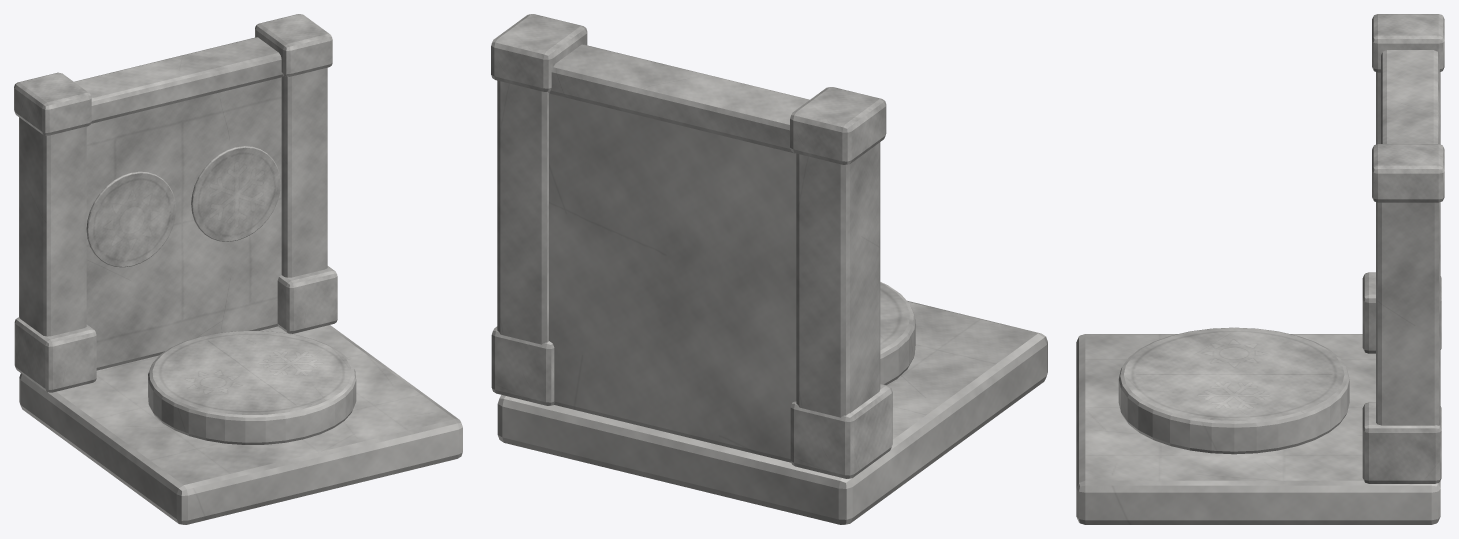
Rendered from season_platform_textured.glb.
3 views of the same model, side by side, from view 1: azimuth 30°, elevation 25°; view 2: azimuth 150°, elevation 25°; view 3: azimuth 270°, elevation 25° (orthographic). The views are drawn at different scales.
Parts seen in each view (by area): view 1: Base, BackWall, PressurePlate, LeftPillar, RightPillar, WallTop, WinterPanel, SummerPanel, LeftFoot, LeftCap, RightFoot, RightCap; view 2: BackWall, Base, LeftPillar, WallTop, RightPillar, LeftFoot, LeftCap, RightCap, RightFoot, PressurePlate; view 3: Base, PressurePlate, RightPillar, WallTop, RightFoot, RightCap, LeftCap, LeftFoot, LeftPillar.
Boxes of the visible parts, box(x1,y1,x2,y2) form: Base: box(19, 325, 462, 524); BackWall: box(86, 77, 281, 370); PressurePlate: box(148, 330, 356, 444); LeftPillar: box(19, 117, 86, 336); RightPillar: box(281, 67, 327, 277); WallTop: box(74, 37, 283, 123); WinterPanel: box(191, 146, 280, 241); SummerPanel: box(86, 171, 176, 267); LeftFoot: box(14, 317, 96, 392); LeftCap: box(14, 72, 91, 135); RightFoot: box(277, 266, 337, 333); RightCap: box(255, 14, 332, 76); BackWall: box(549, 93, 796, 462); Base: box(497, 300, 1047, 524); LeftPillar: box(796, 142, 880, 417); WallTop: box(548, 44, 809, 153); RightPillar: box(497, 80, 548, 344); LeftFoot: box(790, 384, 892, 478); LeftCap: box(790, 87, 886, 164); RightCap: box(491, 14, 587, 91); RightFoot: box(491, 326, 554, 405); PressurePlate: box(880, 282, 915, 384); Base: box(1076, 334, 1440, 524); PressurePlate: box(1118, 327, 1349, 454); RightPillar: box(1376, 202, 1440, 425); WallTop: box(1381, 50, 1439, 144); RightFoot: box(1362, 402, 1441, 483); RightCap: box(1372, 144, 1444, 202); LeftCap: box(1372, 14, 1444, 72); LeftFoot: box(1362, 272, 1441, 353); LeftPillar: box(1376, 72, 1440, 144).
Bounding box in the file's own units: 1.84 × 1.97 × 1.82.
Materials: 6 (6 with a texture image).
